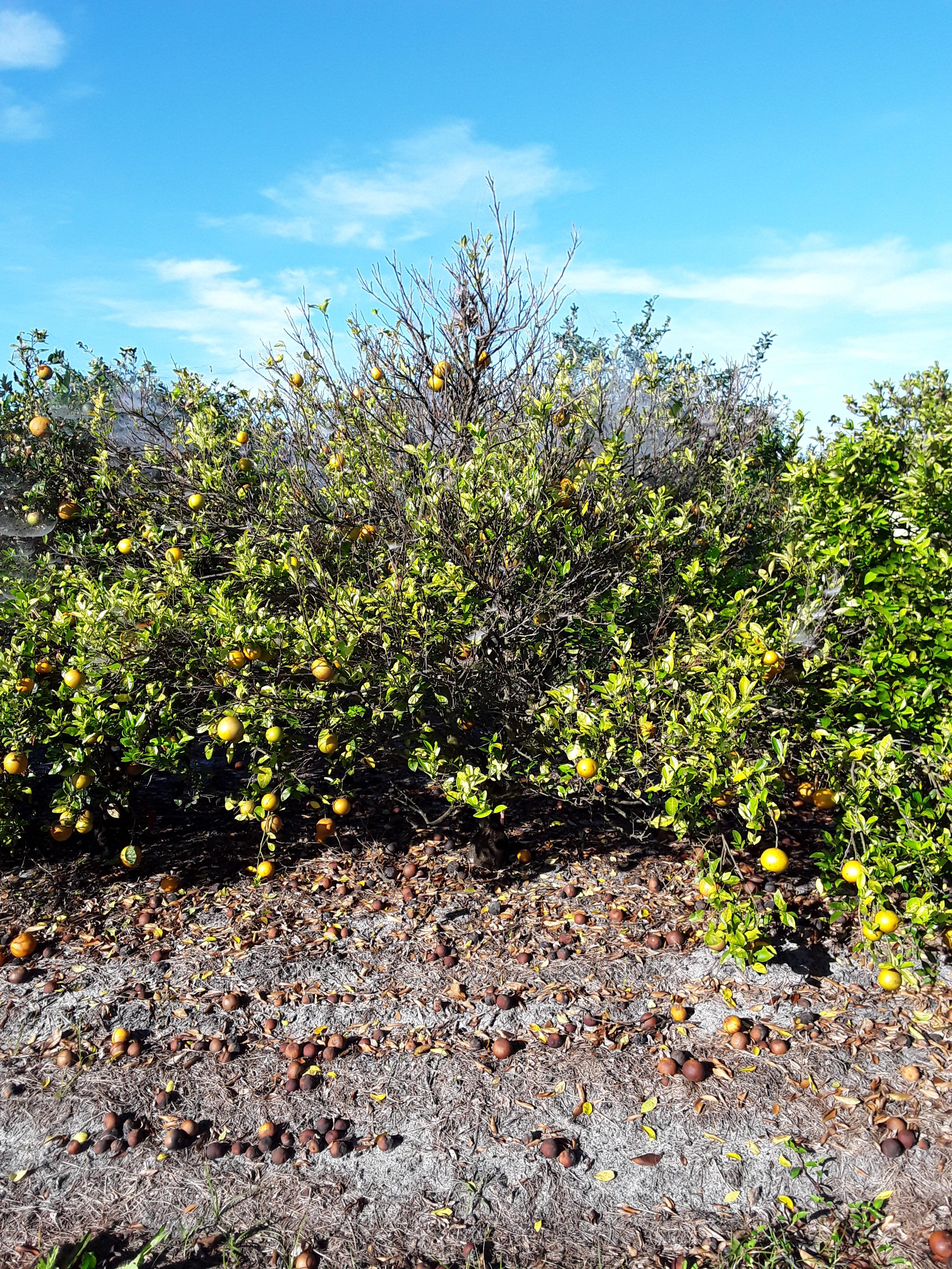fruit_on_ground: (758, 844, 791, 874), (839, 856, 868, 885), (217, 714, 245, 744), (872, 906, 900, 935), (876, 965, 904, 993), (309, 655, 337, 683), (810, 784, 839, 811), (2, 748, 30, 775), (860, 915, 885, 944), (759, 649, 786, 675), (56, 495, 82, 522), (115, 628, 140, 656), (47, 818, 74, 843), (316, 729, 341, 754), (574, 755, 599, 780), (709, 785, 735, 809), (27, 414, 52, 438), (635, 716, 659, 740), (119, 845, 143, 869), (724, 749, 749, 772), (791, 778, 814, 803), (53, 805, 77, 828), (224, 646, 247, 670), (69, 769, 94, 791), (704, 929, 727, 952), (61, 667, 84, 690), (698, 877, 723, 898), (342, 520, 363, 542), (315, 816, 337, 837), (241, 640, 262, 662), (237, 798, 259, 819), (331, 794, 352, 816), (185, 490, 207, 511), (259, 790, 280, 812), (557, 475, 580, 495), (122, 758, 145, 778), (260, 814, 283, 834), (473, 349, 494, 370), (357, 523, 378, 544), (255, 858, 276, 879), (210, 669, 232, 689), (499, 553, 522, 572), (551, 490, 572, 510), (453, 641, 474, 661), (57, 608, 78, 628), (163, 545, 184, 565), (114, 535, 135, 555), (14, 675, 35, 695), (264, 723, 284, 744), (256, 642, 277, 662), (75, 807, 95, 828), (940, 920, 952, 954), (280, 552, 300, 572), (551, 407, 570, 428), (455, 712, 476, 731), (33, 656, 54, 675), (33, 362, 54, 381), (137, 522, 157, 541), (160, 733, 181, 751), (756, 664, 777, 682), (23, 508, 42, 527), (327, 452, 347, 470), (432, 360, 452, 378), (74, 817, 94, 835), (235, 454, 255, 472), (427, 374, 446, 392), (287, 370, 304, 388), (368, 364, 385, 382), (234, 429, 251, 445), (350, 386, 365, 401)
fruit_on_tree: (7, 927, 38, 959), (927, 1227, 952, 1261), (682, 1058, 708, 1084), (539, 1136, 564, 1161), (878, 1136, 904, 1159), (162, 1127, 187, 1150), (490, 1036, 513, 1061), (882, 1114, 908, 1136), (290, 1249, 318, 1269), (554, 1147, 578, 1170), (53, 1046, 76, 1068), (656, 1055, 678, 1077), (158, 872, 181, 893), (721, 1012, 743, 1033), (203, 1141, 226, 1161), (900, 1063, 923, 1083), (124, 1127, 145, 1148), (768, 1037, 789, 1058), (303, 1136, 325, 1156), (298, 1127, 320, 1147), (638, 1010, 660, 1030), (898, 1128, 919, 1148), (269, 1145, 290, 1165), (219, 991, 239, 1012), (374, 1133, 396, 1152), (280, 1040, 302, 1059), (663, 928, 685, 947), (5, 966, 28, 984), (257, 1120, 277, 1140), (328, 1139, 349, 1158), (282, 1048, 303, 1067), (298, 1073, 319, 1092), (729, 1032, 750, 1051), (256, 1135, 277, 1154), (90, 1137, 112, 1155), (445, 980, 467, 998), (749, 1023, 768, 1043), (178, 1117, 198, 1136), (644, 931, 664, 950), (100, 1110, 119, 1130), (668, 1004, 688, 1023), (110, 1025, 130, 1044), (493, 991, 513, 1010), (204, 1034, 225, 1052), (327, 1031, 348, 1049), (542, 1031, 564, 1048), (37, 942, 58, 959), (607, 907, 629, 923), (668, 1048, 687, 1066), (65, 1137, 84, 1155), (154, 1090, 173, 1108), (645, 875, 664, 893), (285, 1060, 304, 1078), (125, 1037, 143, 1056), (315, 1115, 333, 1133), (108, 1042, 127, 1059), (355, 1038, 374, 1055), (321, 1122, 340, 1139), (244, 1144, 262, 1161), (229, 1140, 247, 1157), (369, 1025, 387, 1042), (261, 1016, 279, 1033), (516, 846, 533, 864), (137, 910, 156, 926), (561, 883, 580, 899), (169, 1035, 186, 1052), (208, 996, 225, 1013), (147, 948, 164, 965), (401, 862, 418, 879), (315, 874, 333, 890), (514, 950, 532, 966), (556, 931, 575, 946), (301, 1042, 318, 1058), (279, 1131, 295, 1148), (283, 1077, 301, 1092), (442, 953, 460, 968), (334, 1115, 350, 1131), (42, 979, 58, 995), (323, 925, 339, 941), (322, 1045, 338, 1061), (433, 943, 450, 958), (172, 1006, 188, 1021), (581, 1012, 597, 1027), (554, 947, 571, 961), (382, 864, 397, 879), (337, 923, 351, 939), (324, 990, 340, 1004), (368, 898, 384, 912), (266, 925, 282, 939), (572, 911, 588, 925), (336, 883, 350, 897), (313, 831, 327, 845), (423, 845, 437, 858), (233, 760, 247, 772), (443, 838, 455, 852), (401, 886, 414, 898), (402, 891, 416, 902), (392, 807, 401, 815)
